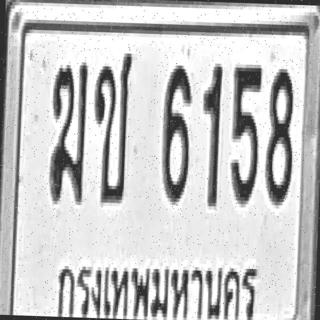A06: (48, 59, 88, 203)
A10: (90, 50, 132, 205)
N01: (199, 61, 223, 208)
N05: (228, 60, 262, 204)
N06: (160, 61, 192, 202)
N08: (264, 65, 295, 206)
P04: (53, 250, 262, 320)
